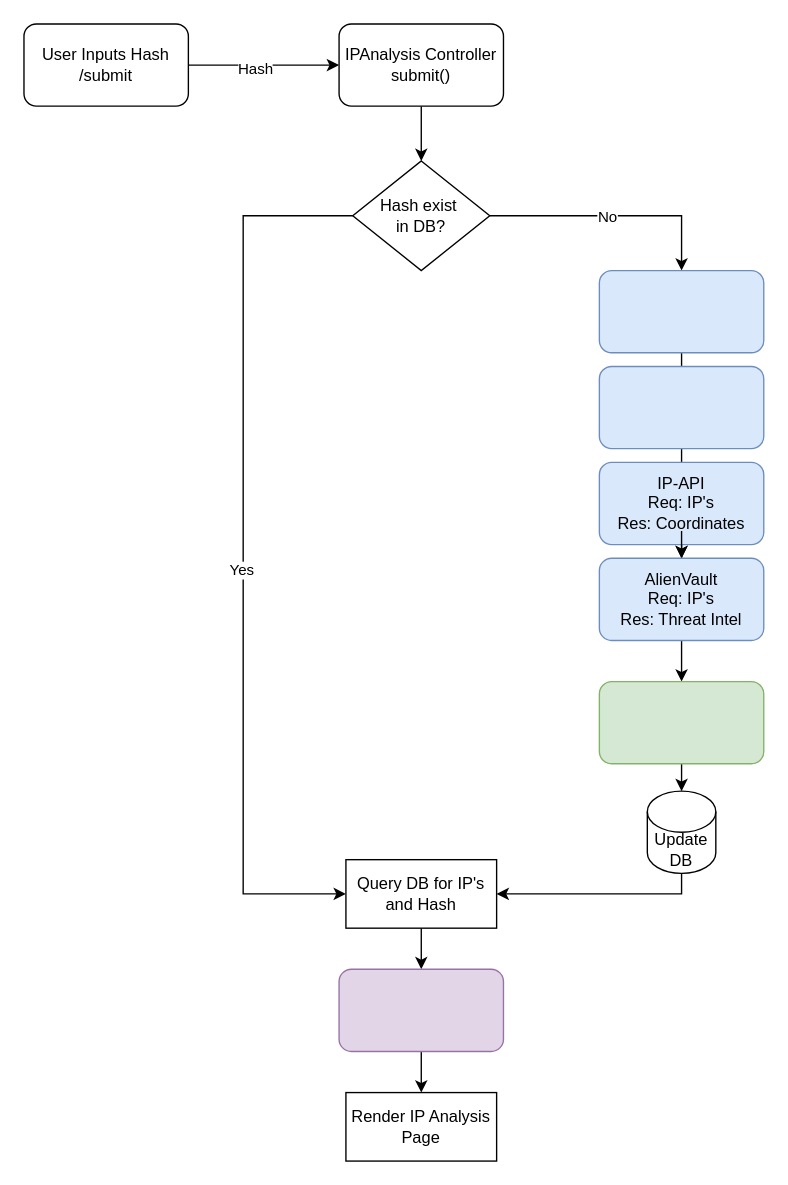
The diagram is 788 pixels wide and 1185 high, and some of its shapes have lost their labels. The centre of each missing label's shape, as x and y in pixels:
"AbuseIPDB Req: IP's Res: Reputations" belongs at (681,407).
"Assign Colours based on Reputation" belongs at (681,722).
"Create Map" belongs at (420,1009).
"VT Req: Hash Res: IP's" belongs at (681,311).
